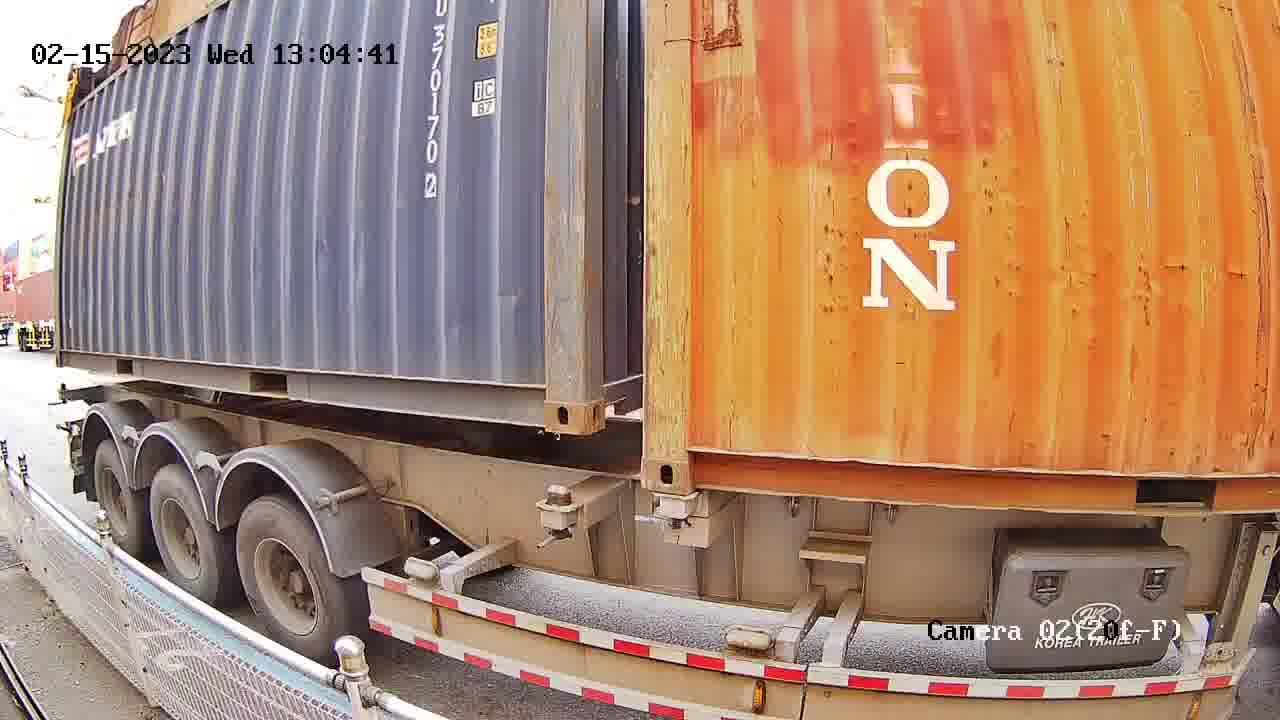Cone: (536, 484, 579, 544), (644, 489, 697, 532)
Hole_L: (642, 419, 731, 491), (583, 349, 644, 432)
Hole_R: (499, 346, 583, 433)
Tire: (236, 505, 347, 655), (151, 471, 217, 603), (92, 447, 140, 557)
